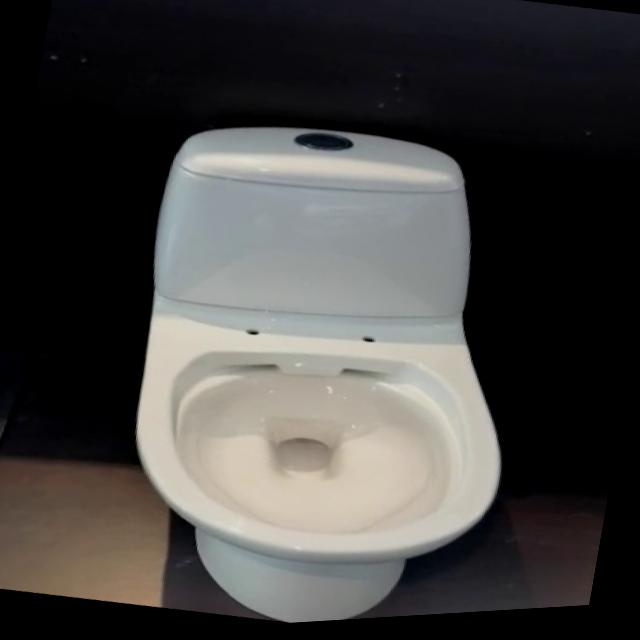toilet: (89, 94, 556, 636)
